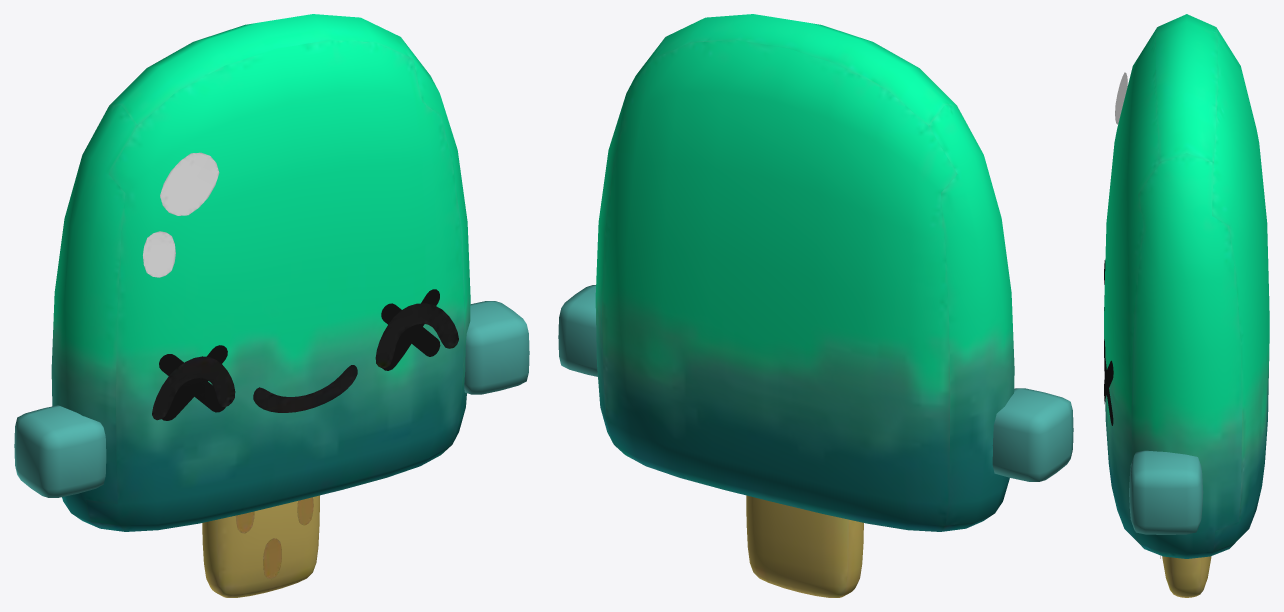
The model's file is icecream.glb.
3 renders of one model, left to right at view 1: azimuth 30°, elevation 25°; view 2: azimuth 150°, elevation 25°; view 3: azimuth 270°, elevation 25°, orthographic. The views are drawn at different scales.
Parts seen in each view (by area): view 1: body, hand_L, hand_R, face_eyes, face_dead_eyes, face_mouth; view 2: body, hand_L, hand_R; view 3: body, hand_R, face_dead_eyes.
Part boxes in pixels (x1,y1,x2,y2): body: (51, 14, 470, 597); hand_L: (14, 405, 106, 497); hand_R: (464, 301, 529, 394); face_eyes: (152, 303, 458, 420); face_dead_eyes: (159, 289, 440, 420); face_mouth: (253, 365, 357, 412); body: (595, 14, 1014, 597); hand_L: (992, 388, 1073, 481); hand_R: (558, 285, 597, 376); body: (1104, 14, 1269, 597); hand_R: (1129, 450, 1203, 534); face_dead_eyes: (1104, 260, 1113, 425).
Bounding box in the file's own units: 0.9028 × 1 × 0.2799.
3 materials, 1 textured.
